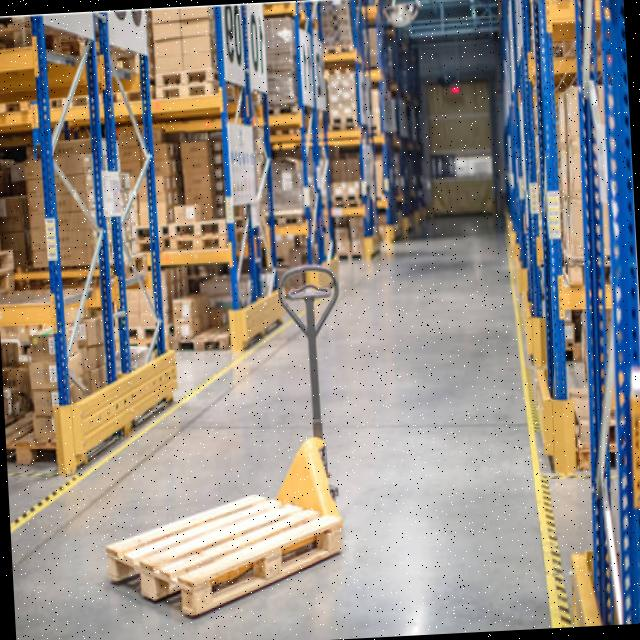Wooden-Pallets: (105, 487, 348, 622), (154, 65, 214, 99), (165, 213, 227, 242)
